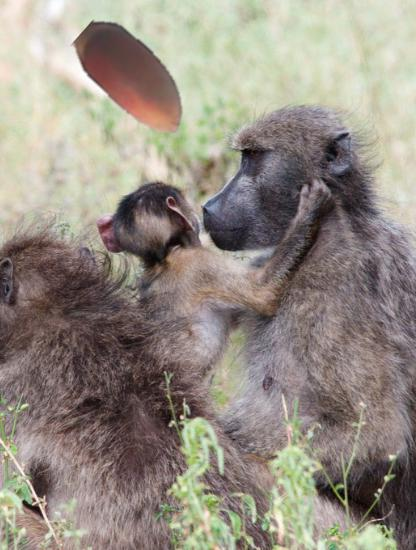Hazelnut: (65, 8, 205, 148)
